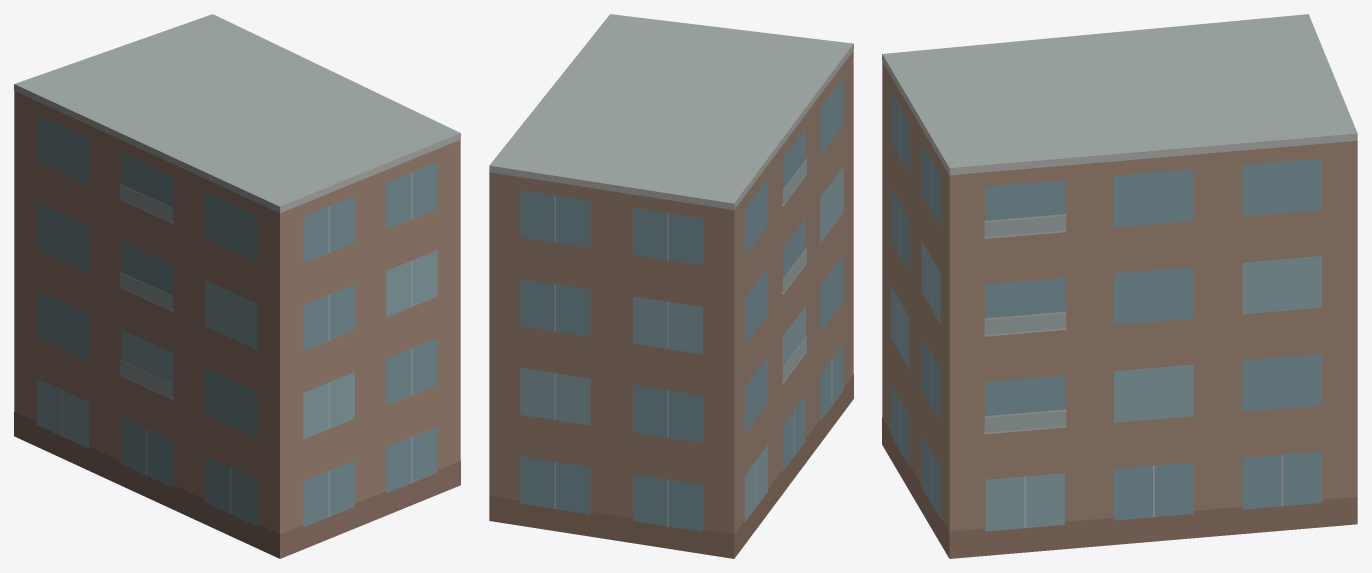
Rendered from survey-upis-33008856.glb.
3 views of the same model, side by side, from view 1: azimuth 30°, elevation 25°; view 2: azimuth 150°, elevation 25°; view 3: azimuth 270°, elevation 25° (orthographic). The views are drawn at different scales.
Parts seen in each view (by area): view 1: survey-upis-33008856.tmp; view 2: survey-upis-33008856.tmp; view 3: survey-upis-33008856.tmp.
Boxes of the visible parts, x1,y1,x2,y2 form: survey-upis-33008856.tmp: [14, 14, 460, 558]; survey-upis-33008856.tmp: [489, 14, 853, 558]; survey-upis-33008856.tmp: [882, 14, 1357, 558].
Size of the model in its own units: 11.18 by 13.2 by 14.57.
